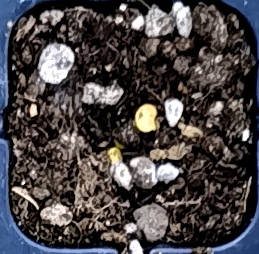chilli seed: (134, 103, 157, 132), (106, 147, 122, 163)
